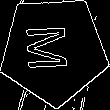M_E: (29, 26, 80, 75)
